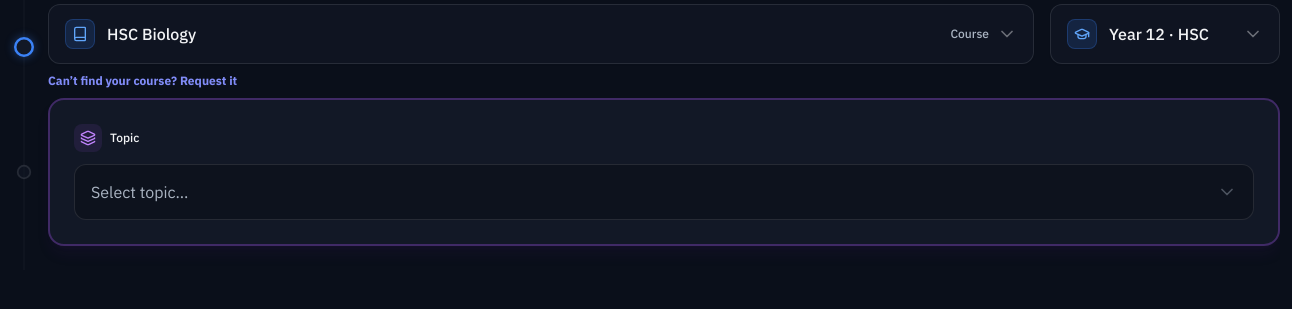
Scenario: PromptSelector › says how many sub-topics each topic holds
Click the button "Select topic…": (140, 192) [74,164,1254,220]
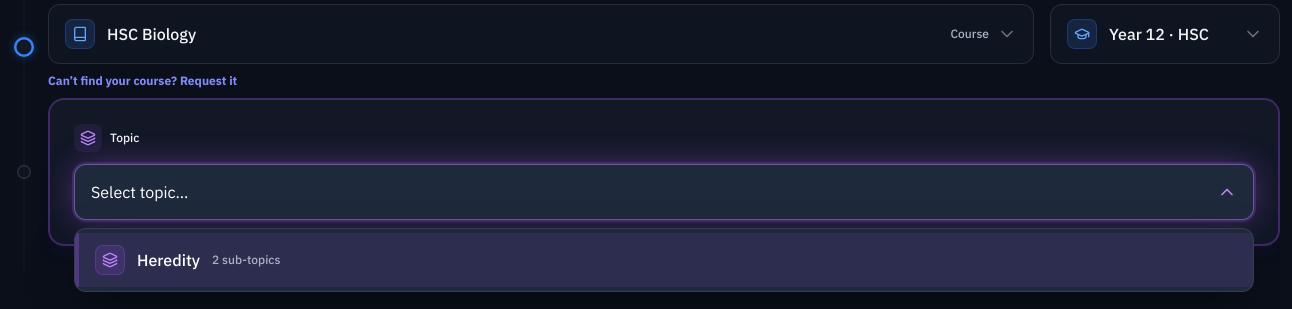
Result: the text "2 sub-topics" is shown at [212,252,280,268]
